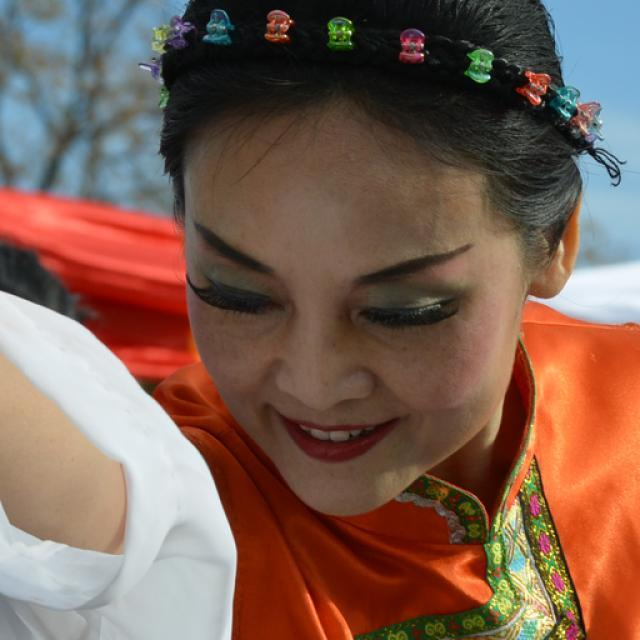happy: (183, 108, 522, 522)
